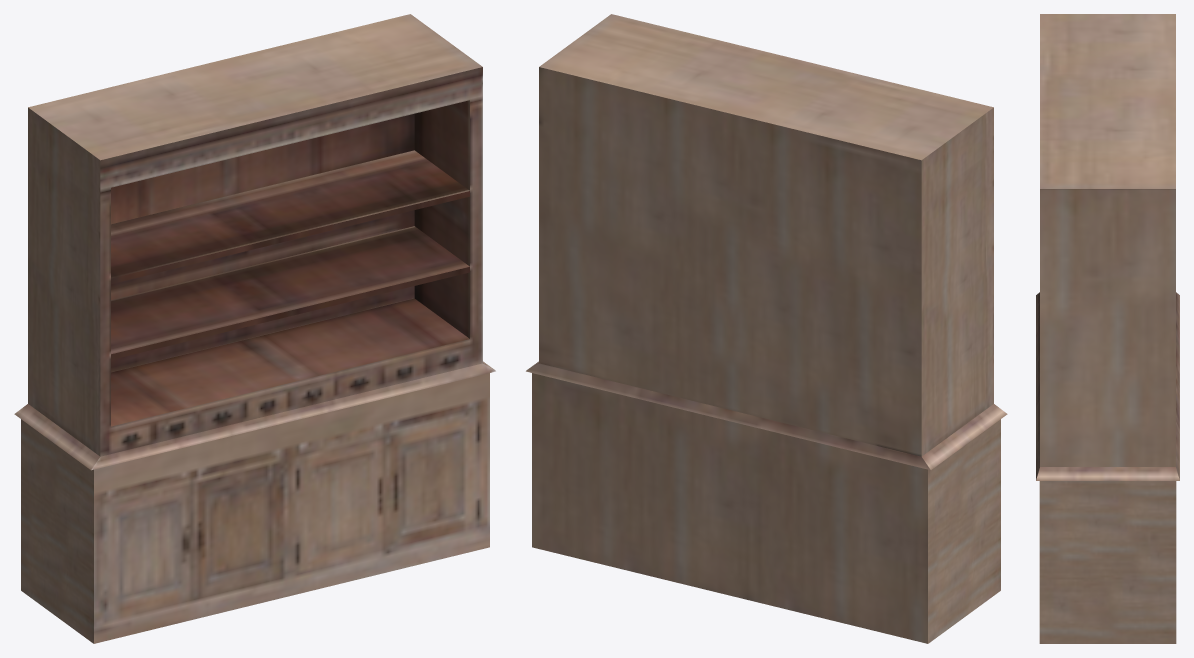
File: estante_d.glb
3 renders of one model, left to right at view 1: azimuth 30°, elevation 25°; view 2: azimuth 150°, elevation 25°; view 3: azimuth 270°, elevation 25°, orthographic. The views are drawn at different scales.
Parts seen in each view (by area): view 1: estante_d; view 2: estante_d; view 3: estante_d.
Boxes of the visible parts, x1,y1,x2,y2 form: estante_d: [14, 14, 495, 643]; estante_d: [526, 14, 1007, 643]; estante_d: [1036, 14, 1179, 643].
Size of the model in its own units: 1.7 by 1.93 by 0.5579.
1 material, 1 textured.
